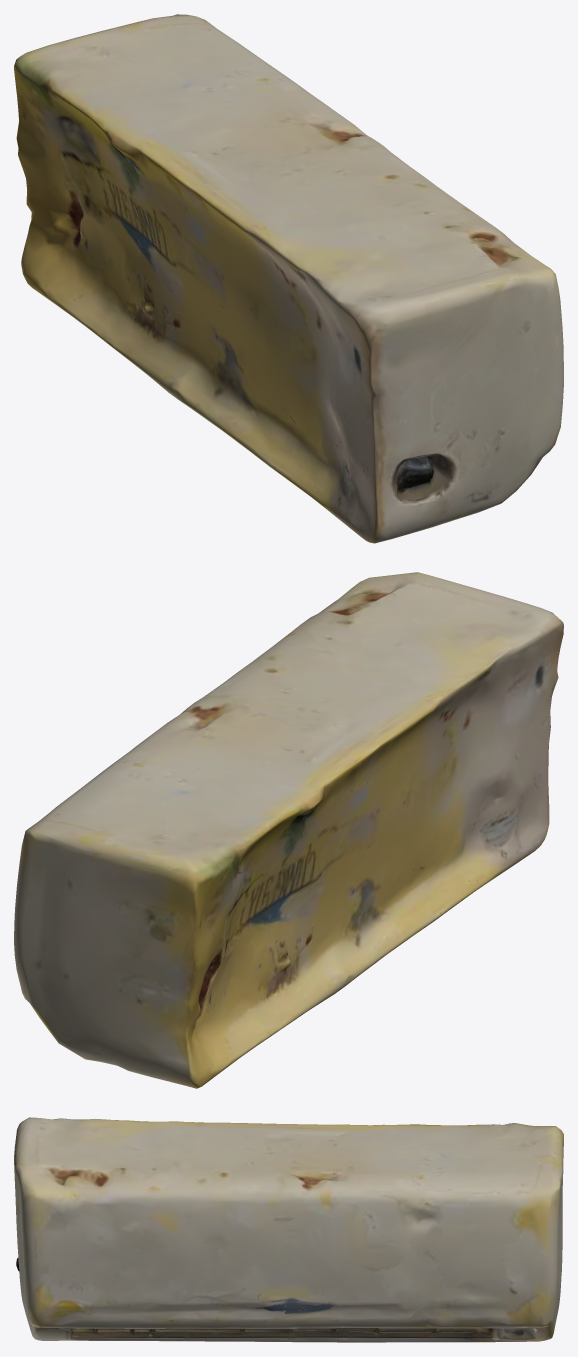
3 views of the same model, one above another, from view 1: azimuth 30°, elevation 25°; view 2: azimuth 150°, elevation 25°; view 3: azimuth 270°, elevation 25° (orthographic). The views are drawn at different scales.
Parts seen in each view (by area): view 1: tripo_node_bd5e6d1e-fbde-4d40-bde0-9c2526c21ddb; view 2: tripo_node_bd5e6d1e-fbde-4d40-bde0-9c2526c21ddb; view 3: tripo_node_bd5e6d1e-fbde-4d40-bde0-9c2526c21ddb.
Boxes of the visible parts, x1,y1,x2,y2 form: tripo_node_bd5e6d1e-fbde-4d40-bde0-9c2526c21ddb: (14, 14, 563, 543); tripo_node_bd5e6d1e-fbde-4d40-bde0-9c2526c21ddb: (14, 572, 563, 1088); tripo_node_bd5e6d1e-fbde-4d40-bde0-9c2526c21ddb: (14, 1117, 563, 1342).
Size of the model in its own units: 0.3358 by 0.368 by 1.
1 material, 1 textured.
